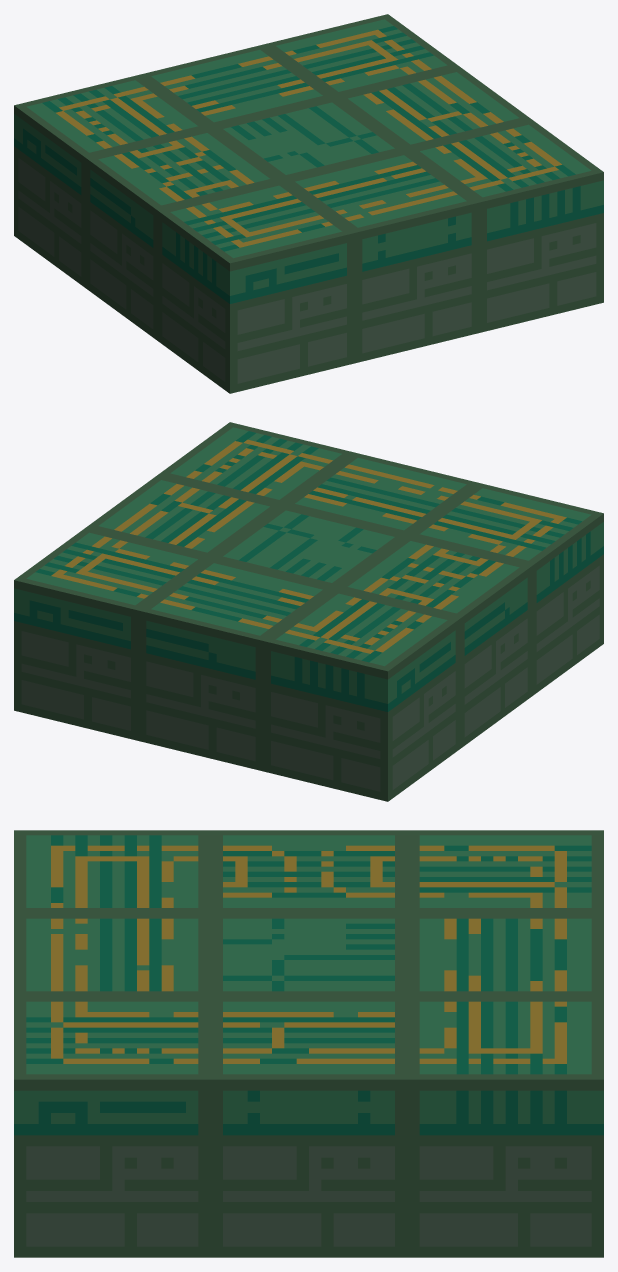
The model's file is m_tiles_1_3x3.fbx.
The picture shows the model from 3 angles, top to bottom: view 1: azimuth 30°, elevation 25°; view 2: azimuth 150°, elevation 25°; view 3: azimuth 270°, elevation 25°; orthographic projection. The views are drawn at different scales.
Parts seen in each view (by area): view 1: m_tiles_1_3x3; view 2: m_tiles_1_3x3; view 3: m_tiles_1_3x3.
Boxes of the visible parts, x1,y1,x2,y2 form: m_tiles_1_3x3: [14, 14, 603, 393]; m_tiles_1_3x3: [14, 422, 603, 801]; m_tiles_1_3x3: [14, 830, 603, 1257].
Bounding box in the file's own units: 4.8 × 1.6 × 4.8.
Materials: 1 (1 with a texture image).
